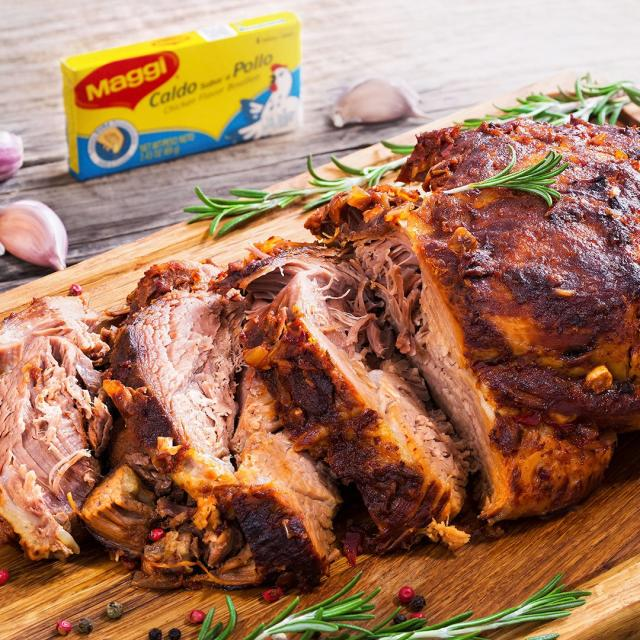carne de res: (31, 172, 621, 551)
